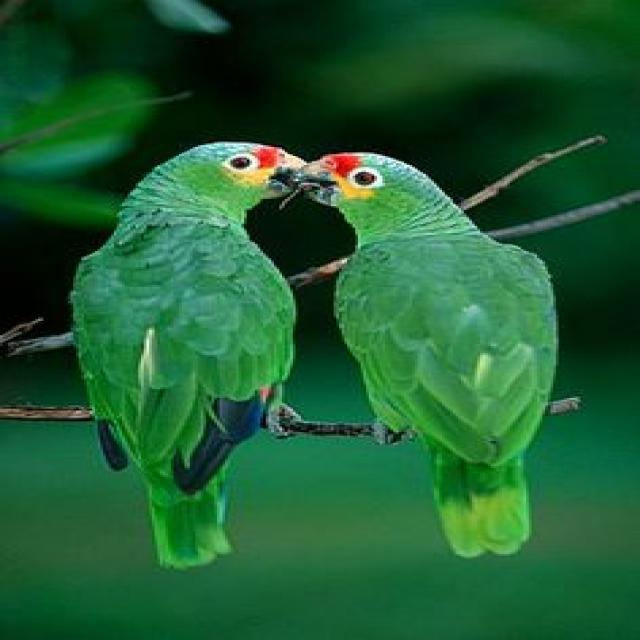Herbivorous: (71, 145, 317, 572), (306, 152, 559, 561)
